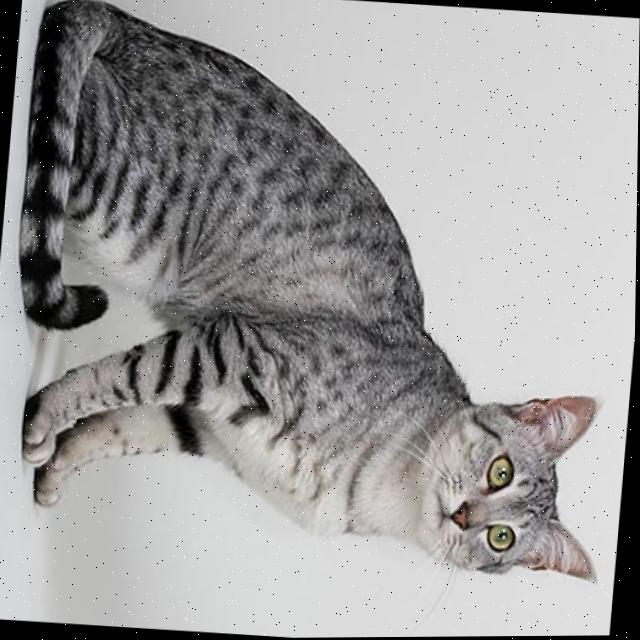Egyptian Mau: (0, 0, 640, 592)
